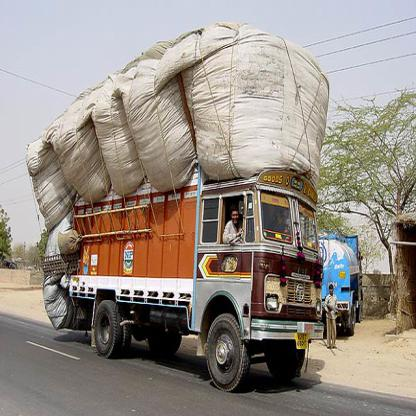overloaded-truck: (25, 26, 328, 228)
